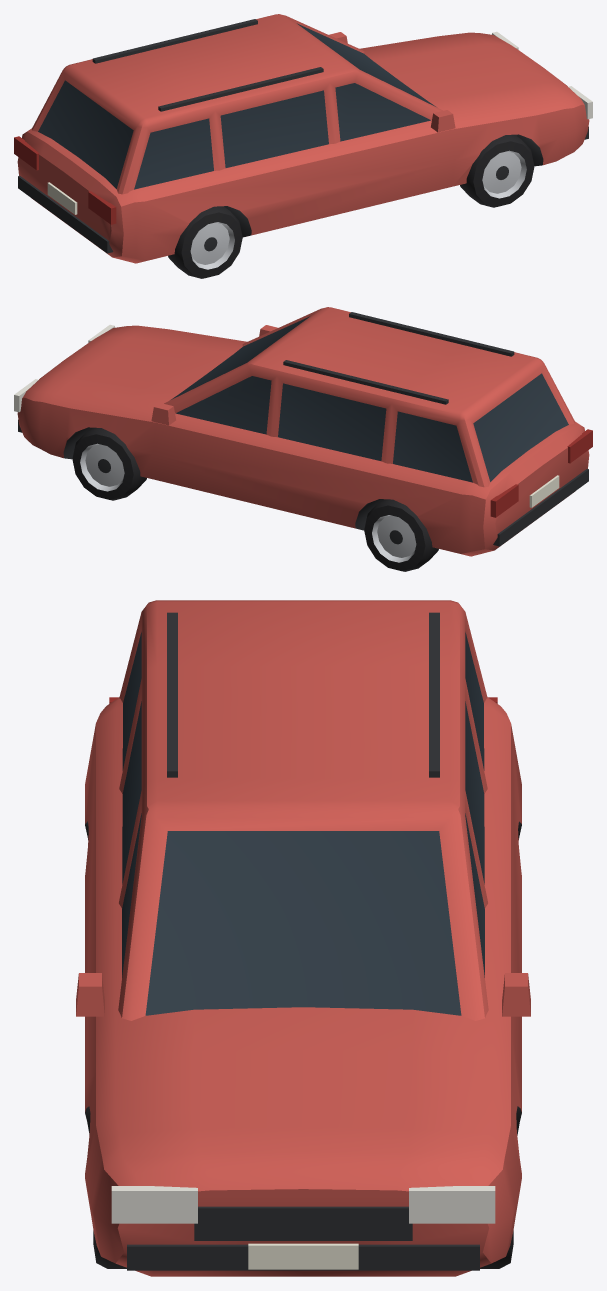
Rendered from estate.glb.
The picture shows the model from 3 angles, top to bottom: view 1: azimuth 30°, elevation 25°; view 2: azimuth 150°, elevation 25°; view 3: azimuth 270°, elevation 25°; orthographic projection. The views are drawn at different scales.
Visible parts, largest first — view 1: estate; view 2: estate; view 3: estate.
Boxes of the visible parts, x1,y1,x2,y2 form: estate: (14, 14, 592, 278); estate: (14, 307, 592, 571); estate: (76, 600, 530, 1276).
Size of the model in its own units: 4.66 by 1.52 by 1.89.
